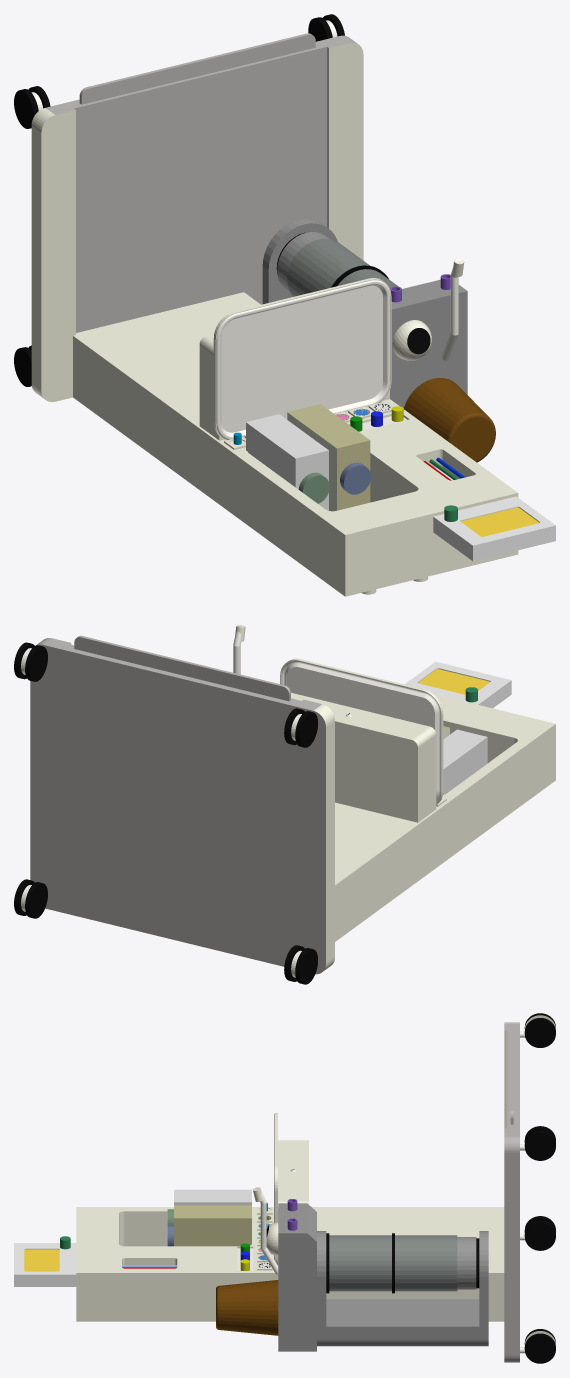
File: maq_anestesia.dae
3 renders of one model, top to bottom at view 1: azimuth 30°, elevation 25°; view 2: azimuth 150°, elevation 25°; view 3: azimuth 270°, elevation 25°, orthographic. The views are drawn at different scales.
Parts seen in each view (by area): view 1: body367073; view 2: body367073; view 3: body367073.
Boxes of the visible parts, x1=… form: body367073: x1=14, y1=14, x2=555, y2=596; body367073: x1=14, y1=625, x2=555, y2=984; body367073: x1=14, y1=1013, x2=555, y2=1363.
Size of the model in its own units: 0.9356 by 0.866 by 1.74.
